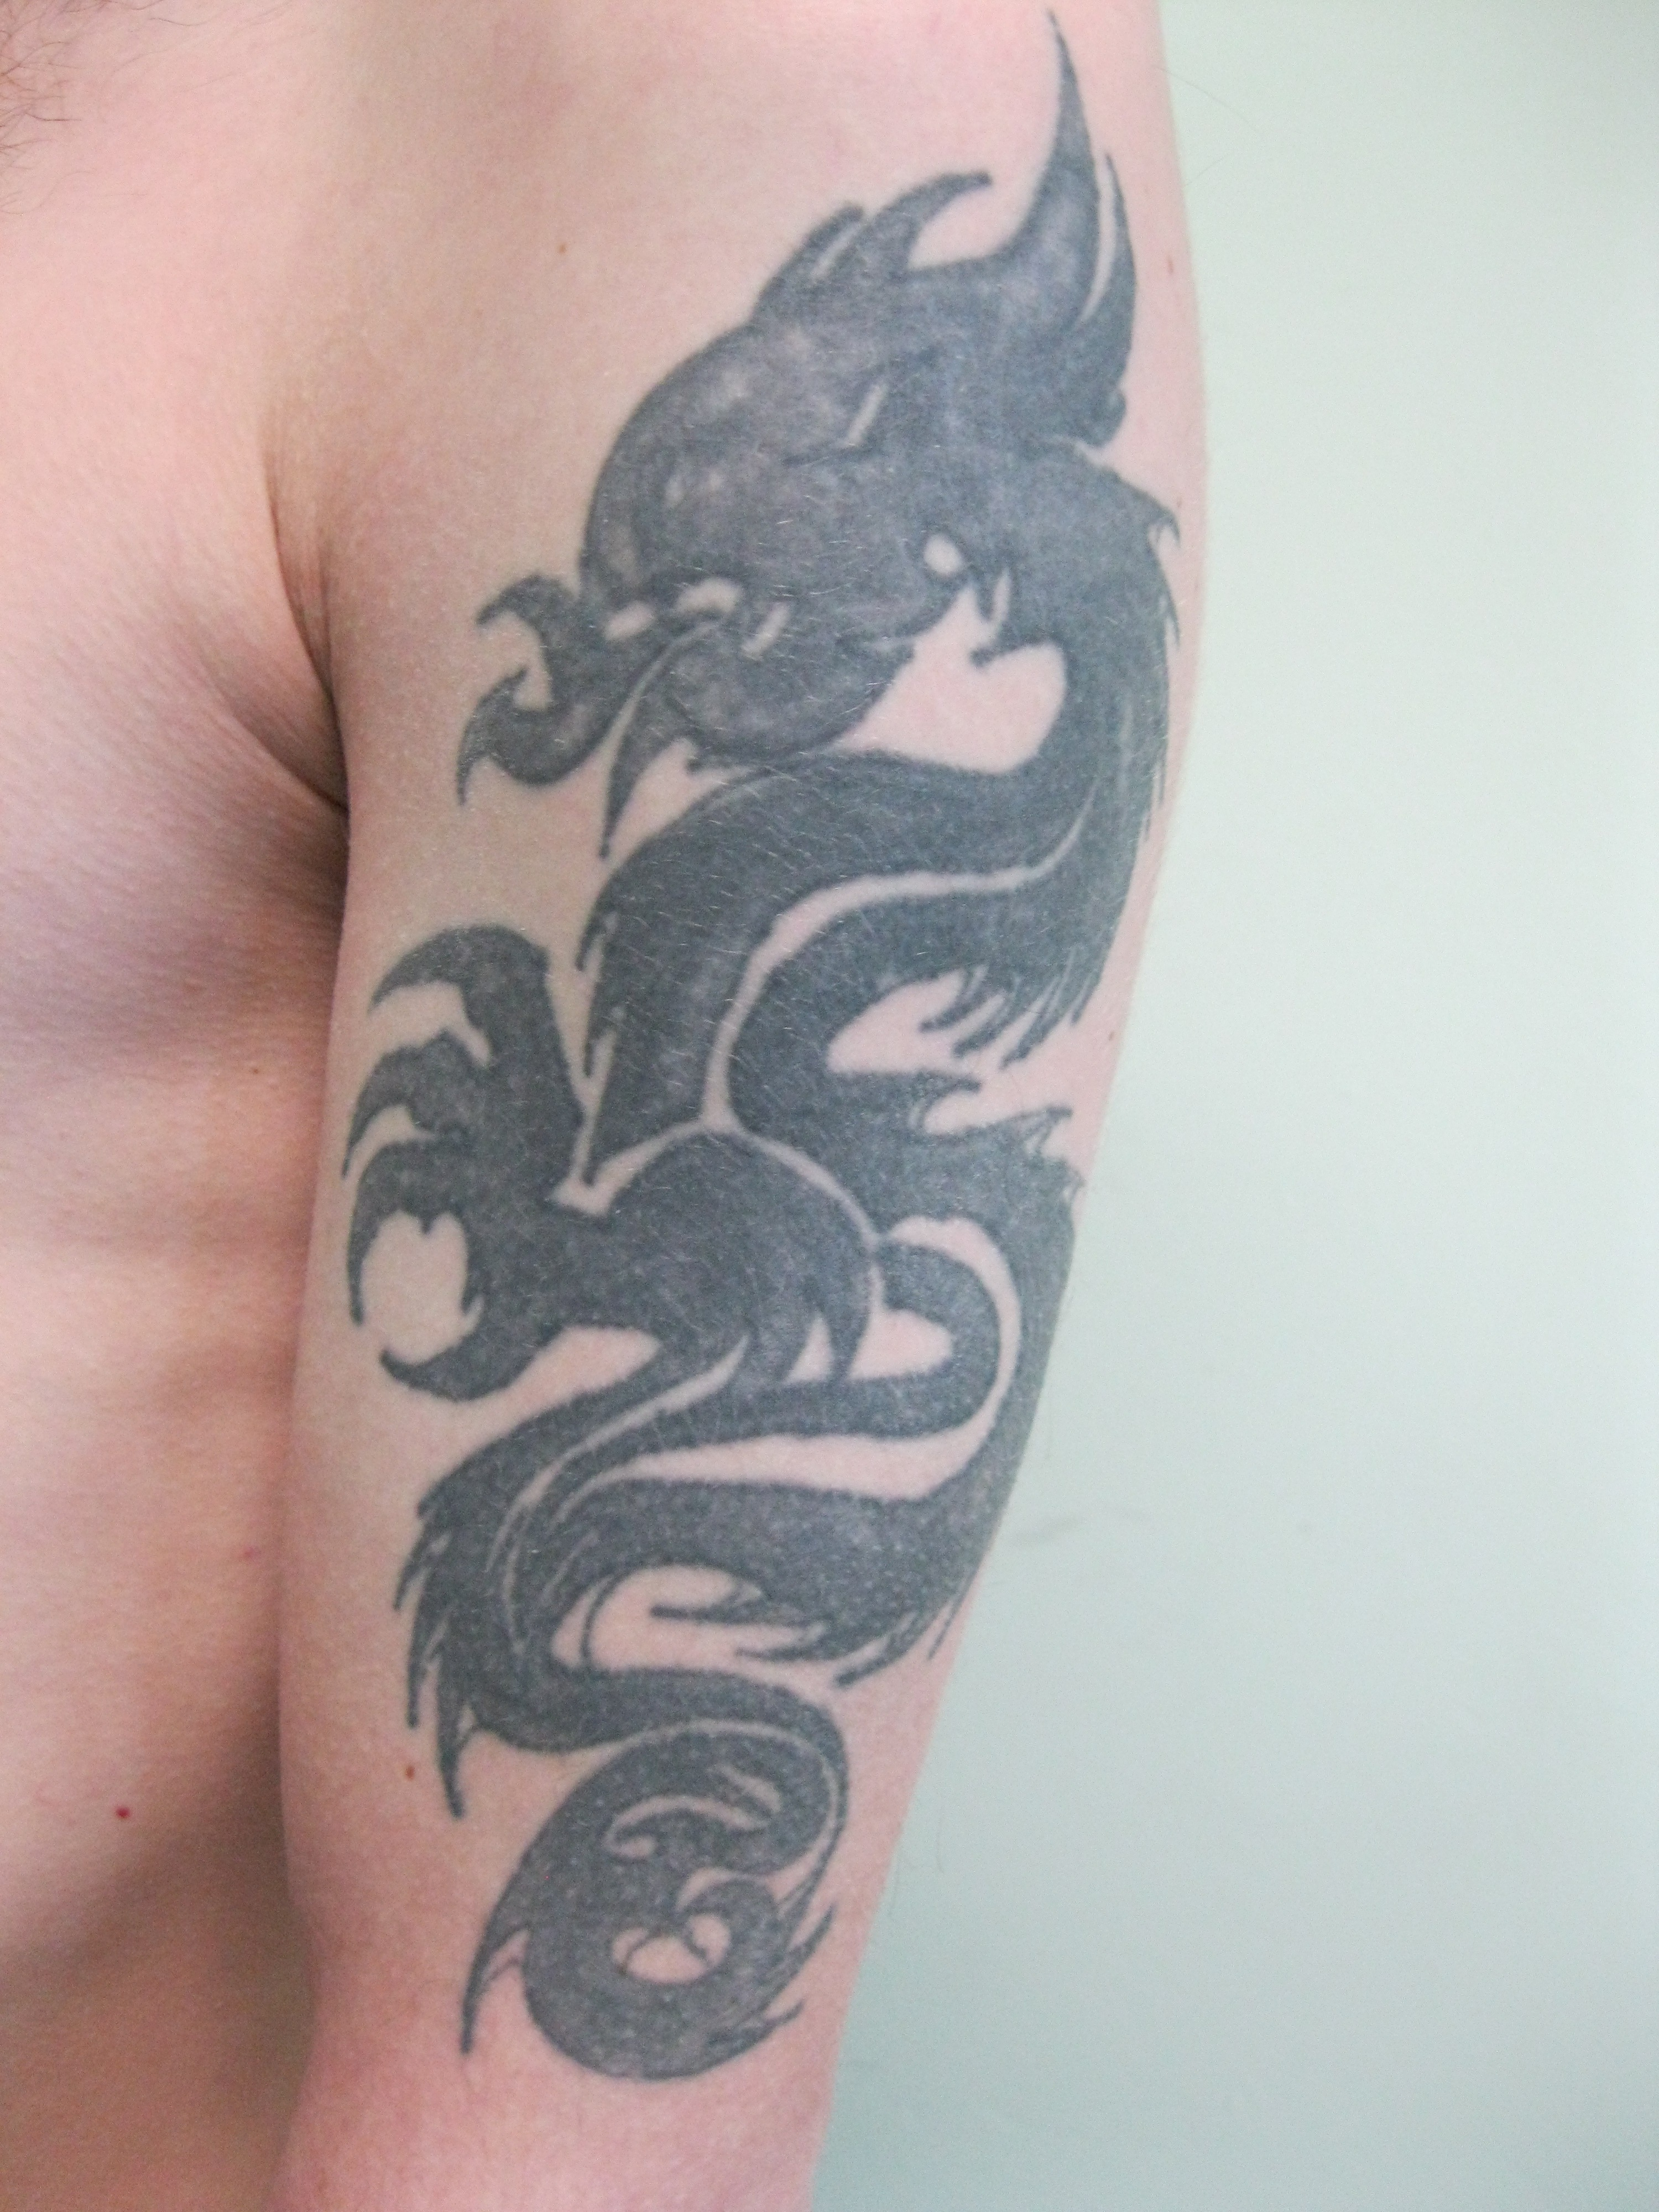tatu6_drakon: (211, 7, 1305, 2155)
